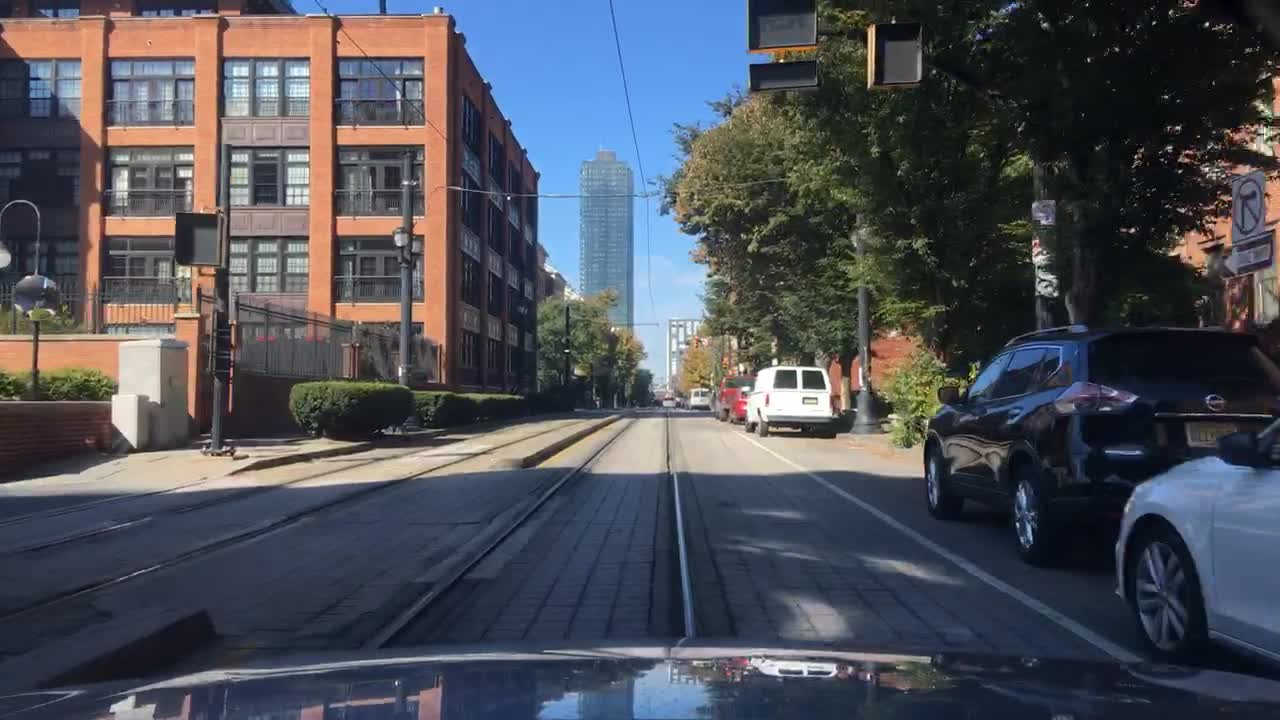bus: (686, 387, 712, 410)
car: (922, 320, 1274, 567), (1114, 430, 1276, 668), (745, 365, 834, 436), (717, 373, 756, 420), (727, 384, 752, 423), (661, 396, 676, 409)
traffic light: (866, 23, 922, 90), (745, 1, 821, 46), (176, 209, 220, 267), (748, 59, 816, 91), (723, 355, 729, 369), (695, 336, 701, 348)
traffic sign: (1229, 167, 1264, 241), (1231, 235, 1275, 273), (1028, 199, 1056, 226), (1032, 236, 1056, 264), (1036, 272, 1059, 297)
